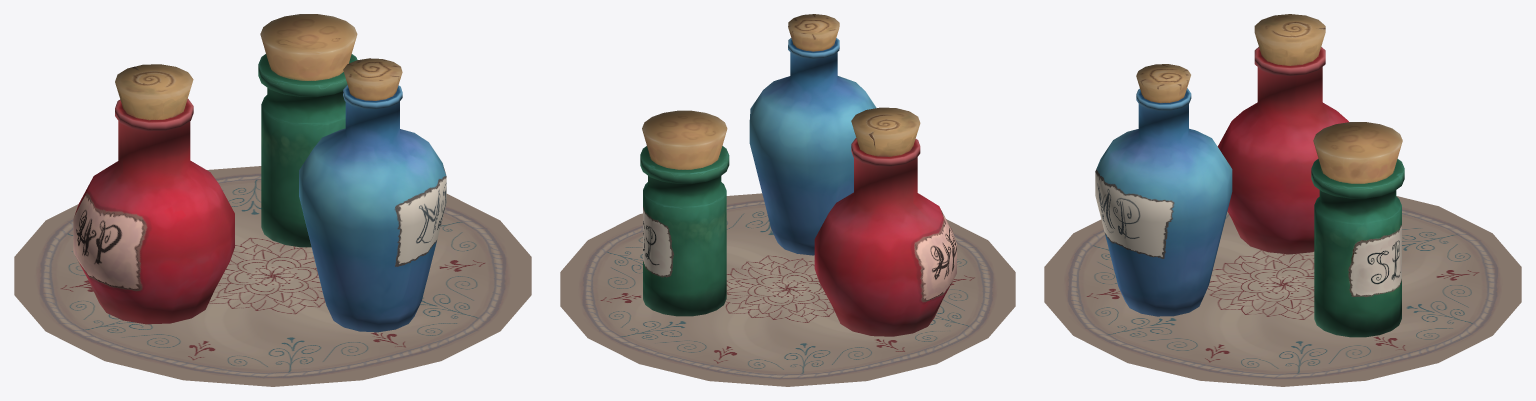
Rendered from free pots.FBX.
3 views of the same model, side by side, from view 1: azimuth 30°, elevation 25°; view 2: azimuth 150°, elevation 25°; view 3: azimuth 270°, elevation 25° (orthographic). The views are drawn at different scales.
Parts seen in each view (by area): view 1: Cylinder010, Sphere001, Sphere003, Cylinder001; view 2: Cylinder010, Sphere001, Sphere003, Cylinder001; view 3: Cylinder010, Sphere003, Sphere001, Cylinder001.
Boxes of the visible parts, x1,y1,x2,y2 form: Cylinder010: [14, 166, 531, 386]; Sphere001: [73, 64, 234, 324]; Sphere003: [299, 58, 446, 332]; Cylinder001: [258, 14, 357, 247]; Cylinder010: [560, 193, 1015, 386]; Sphere001: [814, 107, 956, 336]; Sphere003: [749, 14, 876, 255]; Cylinder001: [640, 110, 729, 316]; Cylinder010: [1044, 196, 1521, 386]; Sphere003: [1095, 64, 1232, 316]; Sphere001: [1217, 14, 1348, 254]; Cylinder001: [1311, 122, 1404, 337].
Size of the model in its own units: 148 by 75.82 by 146.
Materials: 4 (4 with a texture image).
